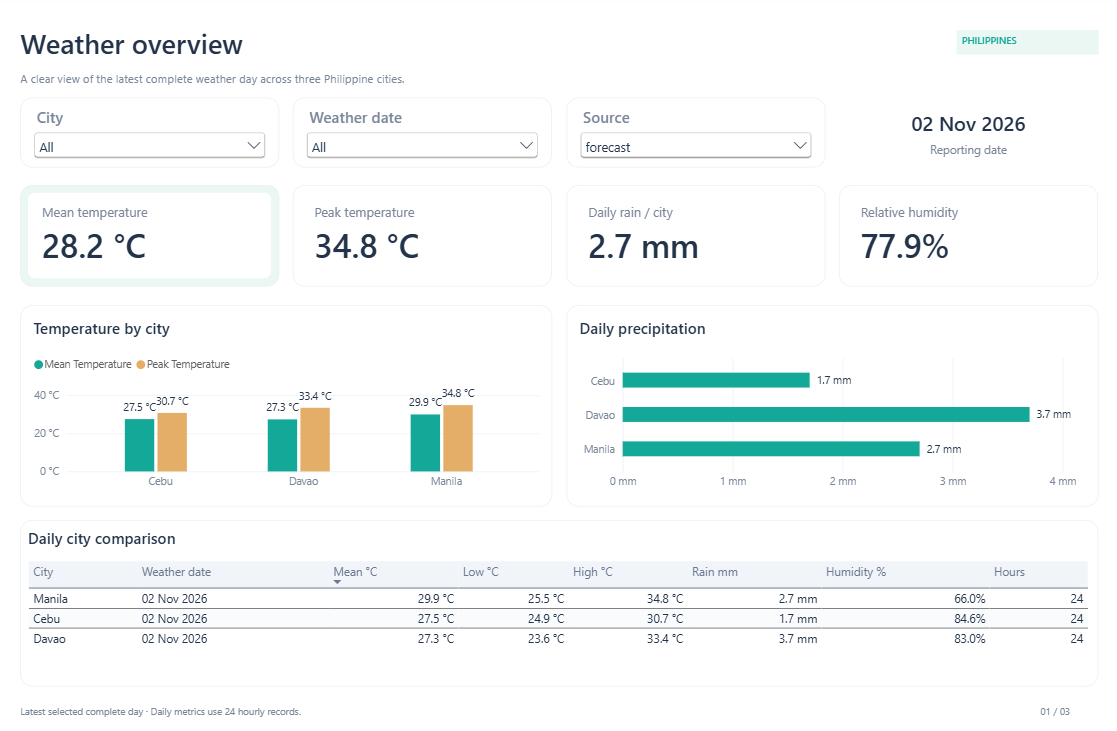

The dashboard page shown, as its layout file describes it:
{"tool":"powerbi","page":{"name":"01  Overview","canvas":[1280,840],"ordinal":0},"visuals":[{"type":"textbox","box":[0,0,1280,108],"z":0},{"type":"textbox","box":[24,20,1208,40],"z":1000},{"type":"textbox","box":[24,69,1208,28],"z":2000},{"type":"slicer","fields":{"Values":["public daily_weather_summary.city"]},"box":[24,120,240,80],"z":3000},{"type":"slicer","fields":{"Values":["public daily_weather_summary.weather_date"]},"box":[280,120,240,80],"z":4000},{"type":"slicer","fields":{"Values":["public daily_weather_summary.data_type"]},"box":[536,120,240,80],"z":5000},{"type":"textbox","box":[804,133,428,60],"z":6000},{"type":"textbox","box":[24,800,1232,26],"z":7000},{"type":"card","fields":{"Values":["public daily_weather_summary.Mean Temperature"]},"box":[24,216,294,112],"z":8000},{"type":"card","fields":{"Values":["public daily_weather_summary.Peak Temperature"]},"box":[334,216,294,112],"z":9000},{"type":"card","fields":{"Values":["public daily_weather_summary.Rain per City"]},"box":[644,216,294,112],"z":10000},{"type":"card","fields":{"Values":["public daily_weather_summary.Mean Humidity"]},"box":[954,216,294,112],"z":11000},{"type":"clusteredColumnChart","title":"01  Temperature by city  /  °C","fields":{"Category":["public daily_weather_summary.city"],"Y":["public daily_weather_summary.Mean Temperature","public daily_weather_summary.Peak Temperature"]},"box":[24,344,608,230],"z":12000},{"type":"clusteredBarChart","title":"02  Daily precipitation by city  /  mm","fields":{"Category":["public daily_weather_summary.city"],"Y":["public daily_weather_summary.Rain per City"]},"box":[648,344,608,230],"z":13000},{"type":"tableEx","title":"03  Complete-day comparison  /  metrics require 24 hourly records","fields":{"Values":["public daily_weather_summary.city","public daily_weather_summary.Reporting Date","public daily_weather_summary.Mean Temperature","public daily_weather_summary.Minimum Temperature","public daily_weather_summary.Peak Temperature","public daily_weather_summary.Rain per City","public daily_weather_summary.Mean Humidity","public daily_weather_summary.Covered Hours"]},"box":[24,590,1232,194],"z":14000}]}

Visuals, with their boxes in screenshot pixels (x1, y1, x2, y2), scaled from the page's 1280x840 canvas onto the 1117x731 screenshot:
textbox: [x1=0, y1=0, x2=1116, y2=94]
textbox: [x1=21, y1=17, x2=1075, y2=52]
textbox: [x1=21, y1=60, x2=1075, y2=84]
slicer - public daily_weather_summary.city: [x1=21, y1=104, x2=230, y2=174]
slicer - public daily_weather_summary.weather_date: [x1=244, y1=104, x2=454, y2=174]
slicer - public daily_weather_summary.data_type: [x1=468, y1=104, x2=677, y2=174]
textbox: [x1=702, y1=116, x2=1075, y2=168]
textbox: [x1=21, y1=696, x2=1096, y2=719]
card - public daily_weather_summary.Mean Temperature: [x1=21, y1=188, x2=278, y2=285]
card - public daily_weather_summary.Peak Temperature: [x1=291, y1=188, x2=548, y2=285]
card - public daily_weather_summary.Rain per City: [x1=562, y1=188, x2=819, y2=285]
card - public daily_weather_summary.Mean Humidity: [x1=833, y1=188, x2=1089, y2=285]
"01  Temperature by city  /  °C" clusteredColumnChart: [x1=21, y1=299, x2=552, y2=500]
"02  Daily precipitation by city  /  mm" clusteredBarChart: [x1=565, y1=299, x2=1096, y2=500]
"03  Complete-day comparison  /  metrics require 24 hourly records" tableEx: [x1=21, y1=513, x2=1096, y2=682]
